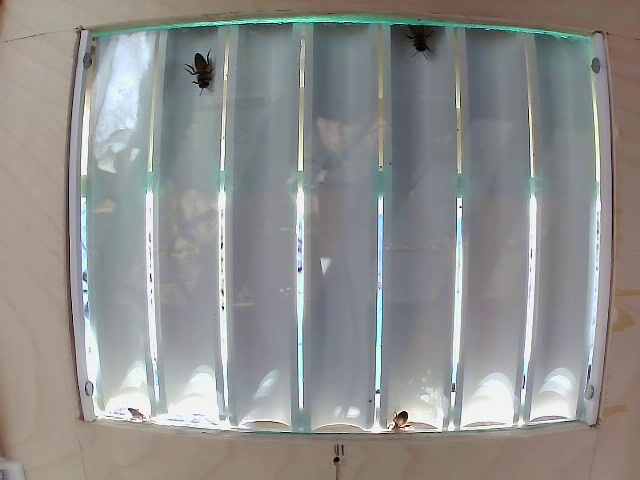bee: (187, 51, 233, 101), (397, 20, 441, 60)
